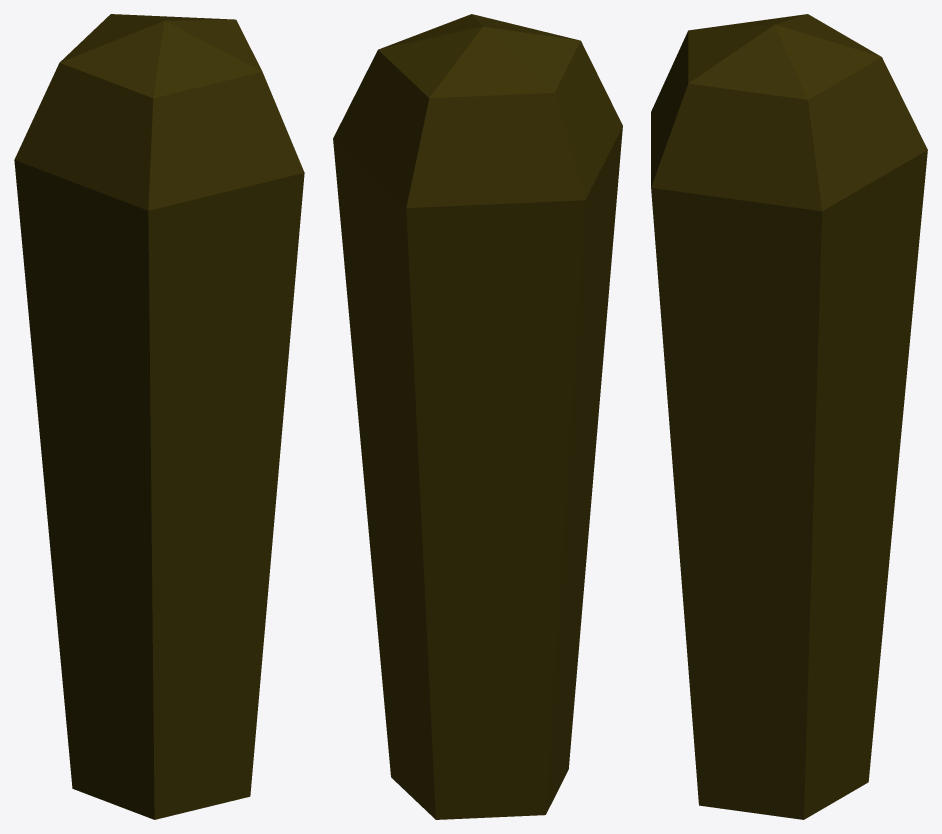
Rendered from Cactus1.fbx.glb.
The picture shows the model from 3 angles, left to right: view 1: azimuth 30°, elevation 25°; view 2: azimuth 150°, elevation 25°; view 3: azimuth 270°, elevation 25°; orthographic projection.
Parts seen in each view (by area): view 1: Cactus1; view 2: Cactus1; view 3: Cactus1.
Part boxes in pixels (x1,y1,x2,y2): Cactus1: [14, 14, 304, 819]; Cactus1: [333, 14, 622, 819]; Cactus1: [651, 14, 927, 819].
Bounding box in the file's own units: 20.41 × 58.62 × 19.41.
